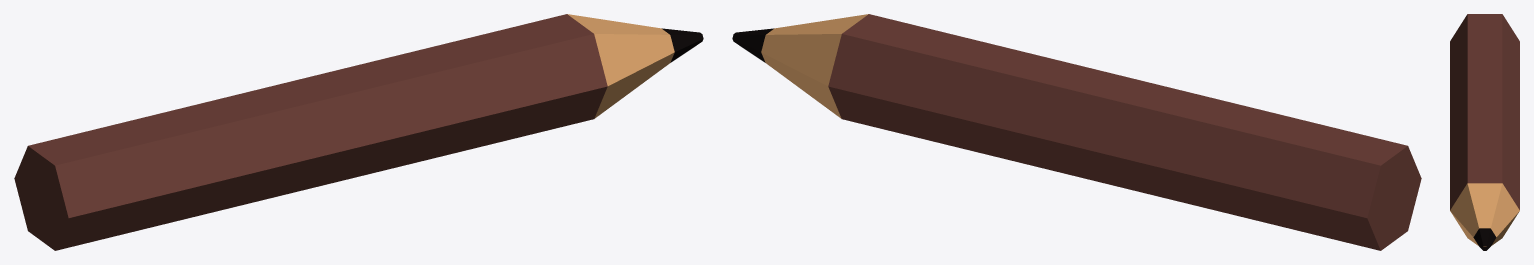
The model's file is pencil.fbx.
The picture shows the model from 3 angles, left to right: view 1: azimuth 30°, elevation 25°; view 2: azimuth 150°, elevation 25°; view 3: azimuth 270°, elevation 25°; orthographic projection. The views are drawn at different scales.
Parts seen in each view (by area): view 1: pencil; view 2: pencil; view 3: pencil.
Boxes of the visible parts, x1,y1,x2,y2 form: pencil: (14, 14, 703, 250); pencil: (732, 14, 1421, 250); pencil: (1450, 14, 1519, 250).
Bounding box in the file's own units: 26.49 × 3.28 × 3.78.
